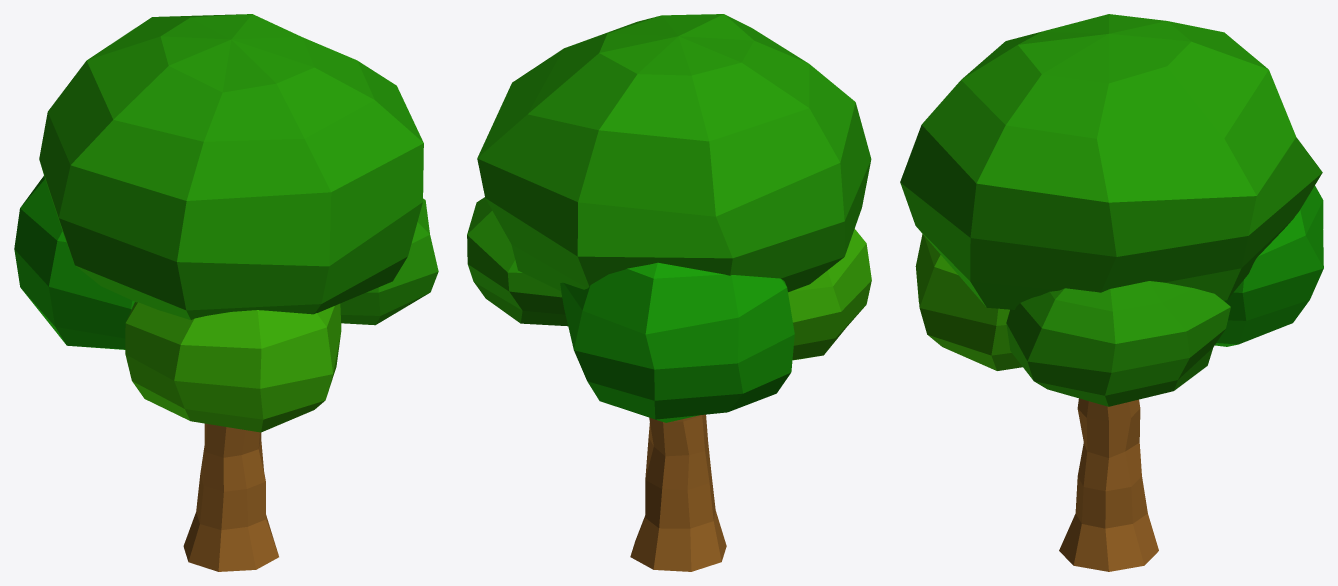
File: Tree.fbx
3 views of the same model, side by side, from view 1: azimuth 30°, elevation 25°; view 2: azimuth 150°, elevation 25°; view 3: azimuth 270°, elevation 25° (orthographic).
Parts seen in each view (by area): view 1: Sphere.003; view 2: Sphere.003; view 3: Sphere.003.
Part boxes in pixels (x1,y1,x2,y2): Sphere.003: (14,14,438,571); Sphere.003: (467,14,871,571); Sphere.003: (900,14,1323,571).
Size of the model in its own units: 1440 by 1922 by 1428.
